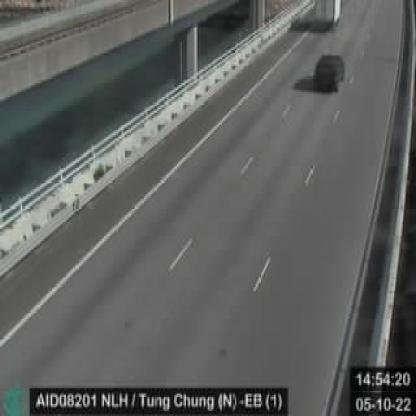Car: (314, 52, 344, 94)
